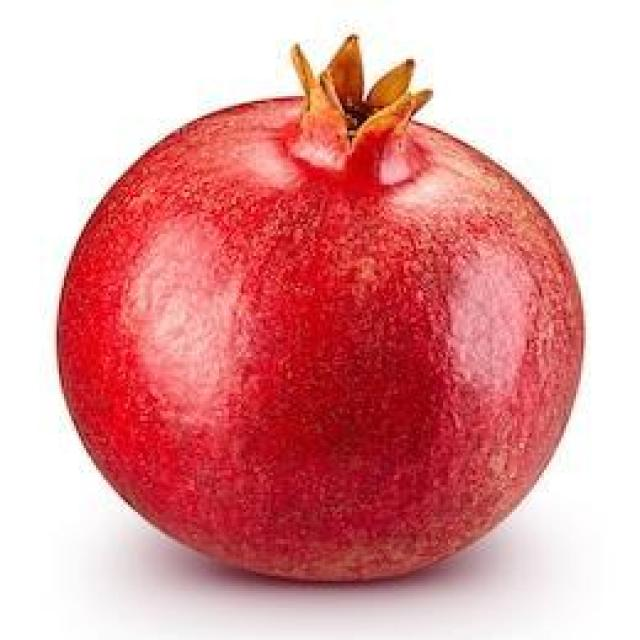Pomegranate: (49, 26, 587, 592)
